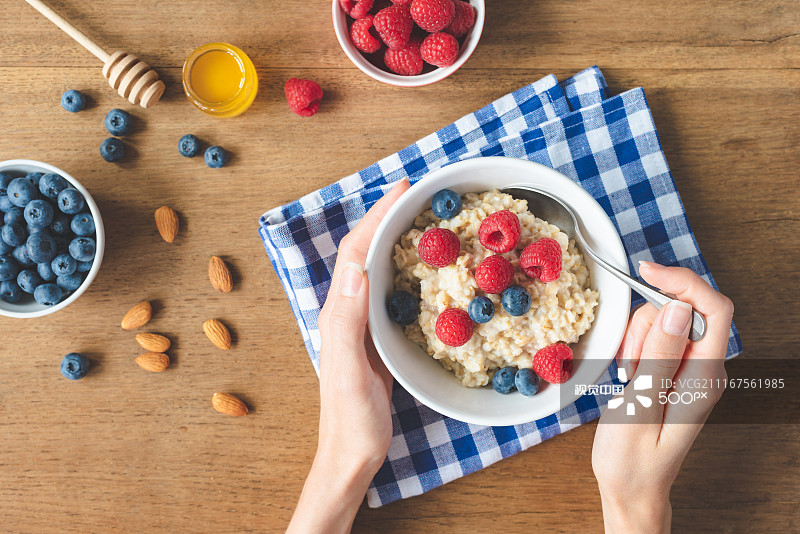no-phone: (583, 230, 741, 531), (302, 167, 427, 495)
